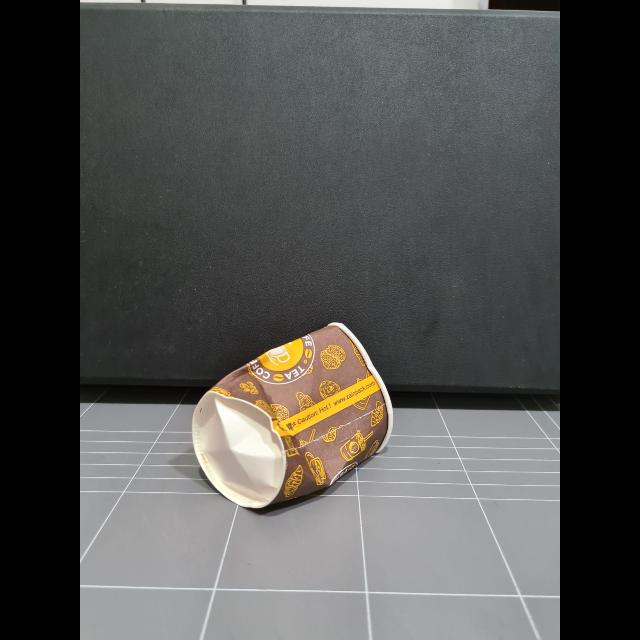trash: (183, 322, 405, 510)
